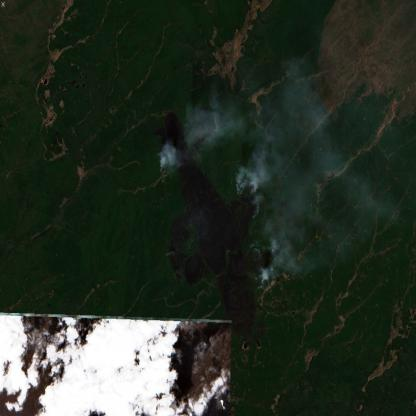fire: (234, 173, 262, 222), (153, 146, 175, 184), (254, 268, 271, 293)
